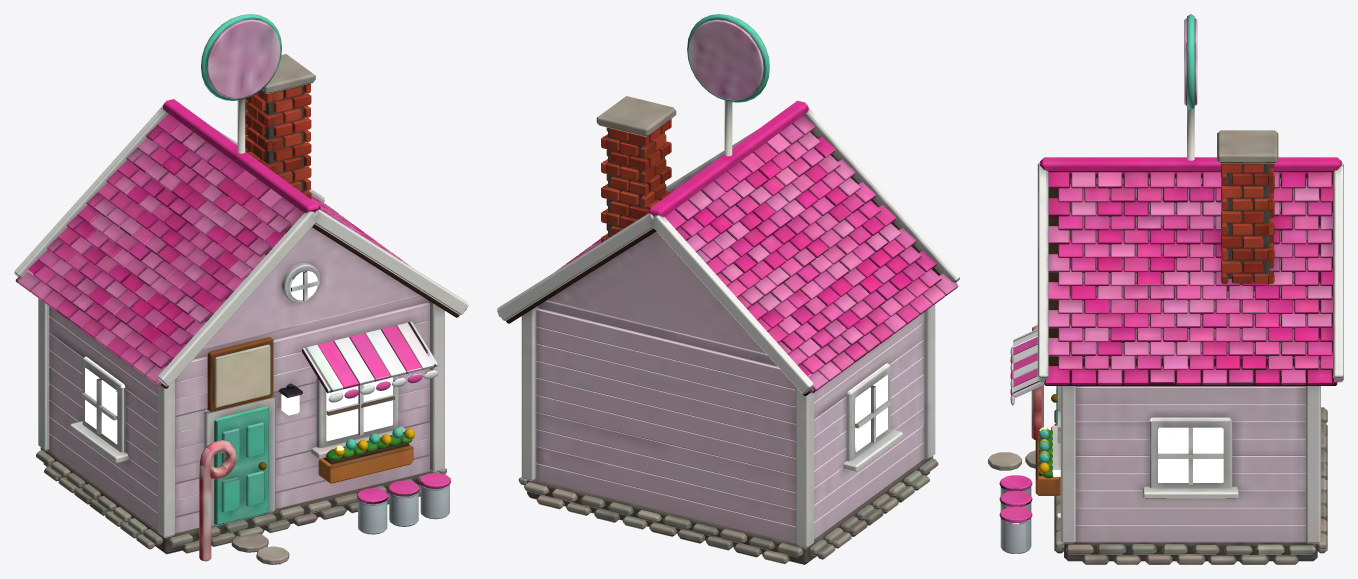
File: candy_shop.glb
3 views of the same model, side by side, from view 1: azimuth 30°, elevation 25°; view 2: azimuth 150°, elevation 25°; view 3: azimuth 270°, elevation 25° (orthographic). The views are drawn at different scales.
Visible parts, largest first — view 1: candy_shop; view 2: candy_shop; view 3: candy_shop.
Part boxes in pixels (bbox=[...]): candy_shop: bbox=[14, 14, 468, 564]; candy_shop: bbox=[497, 14, 959, 564]; candy_shop: bbox=[988, 14, 1343, 564].
Bounding box in the file's own units: 1.68 × 2.4 × 1.63.
1 material, 1 textured.
